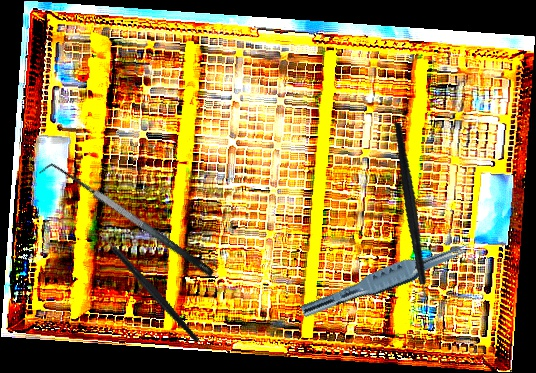Chopper: (358, 121, 475, 314), (89, 210, 200, 364)
Spatula Surgical: (38, 152, 216, 292)
Tissue Forceps: (299, 232, 474, 328)
